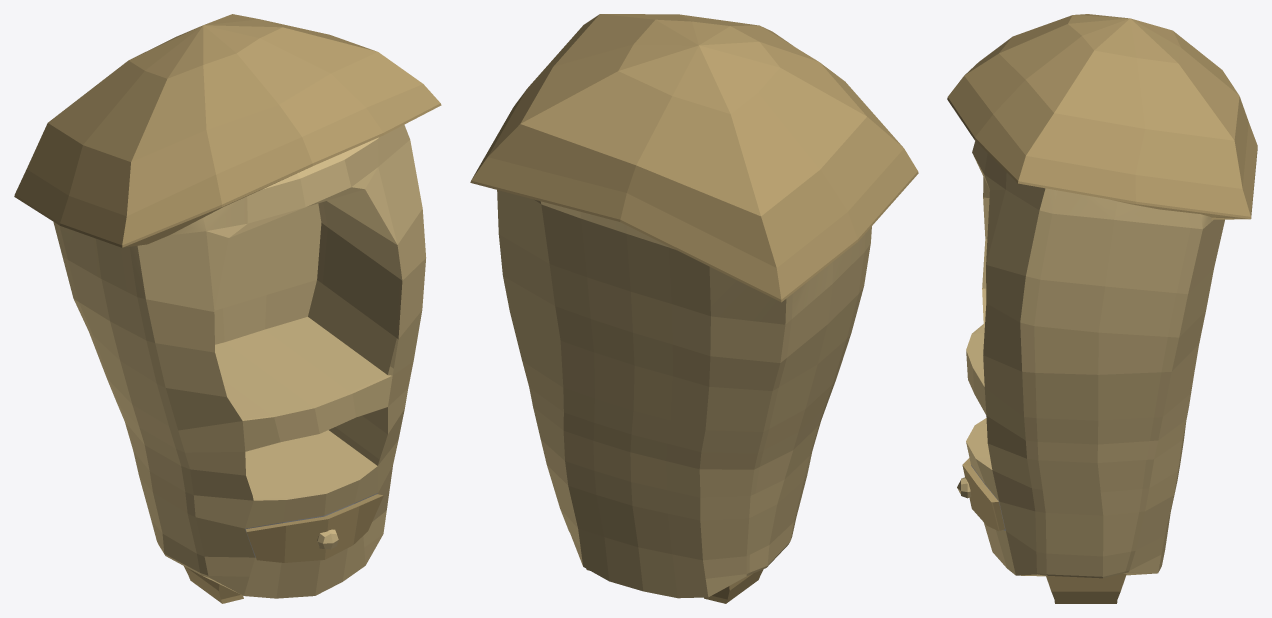
The model's file is new_cabinet 1.fbx.
The picture shows the model from 3 angles, left to right: view 1: azimuth 30°, elevation 25°; view 2: azimuth 150°, elevation 25°; view 3: azimuth 270°, elevation 25°; orthographic projection. The views are drawn at different scales.
Parts seen in each view (by area): view 1: polySurface34; view 2: polySurface34; view 3: polySurface34.
Part boxes in pixels (x1,y1,x2,y2): polySurface34: [14, 14, 441, 603]; polySurface34: [470, 14, 918, 603]; polySurface34: [947, 14, 1257, 603].
Size of the model in its own units: 7.78 by 12.3 by 6.53.
